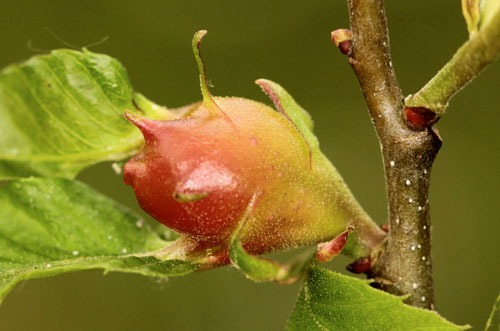galarisi: (112, 66, 356, 260)
